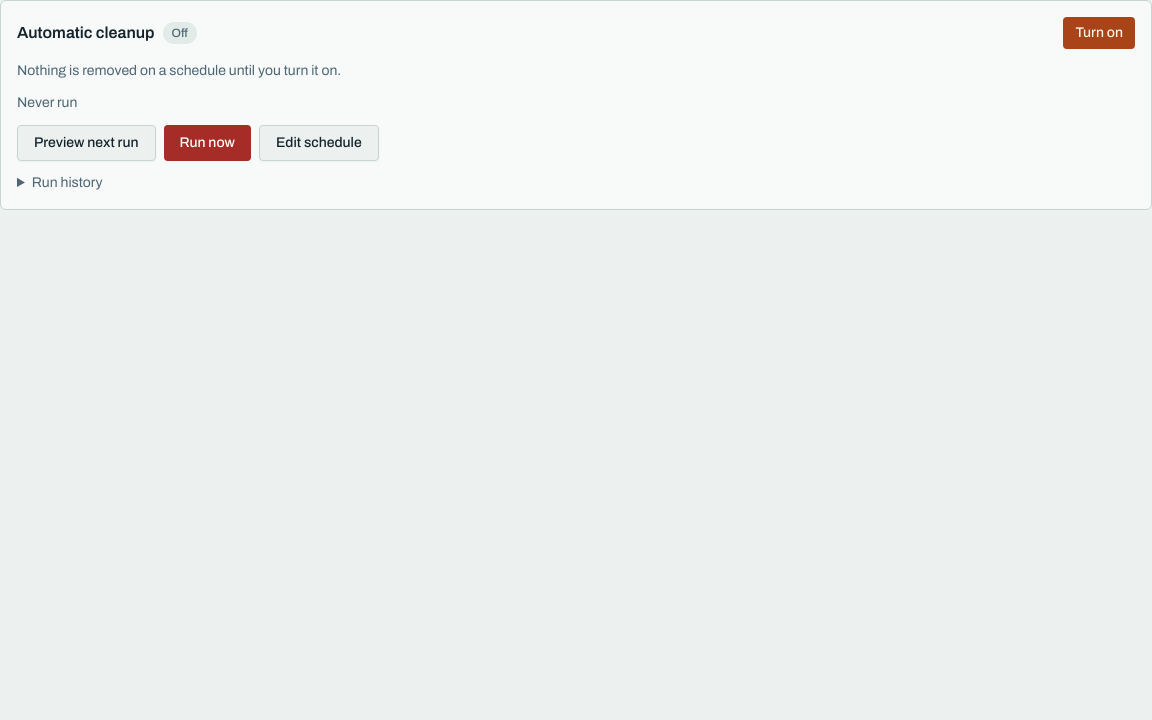
Scenario: AutoCleanupPanel: status copy (AC8) › Off shows "Off" and a "Turn on" that opens Edit schedule with the switch on
This screenshot has width=1152, height=720.
expect the text "Off" is shown: met, box top-left (163, 22), bottom-right (197, 44)
Step 1. Click the button "Turn on" → (1099, 33), box top-left (1064, 17), bottom-right (1135, 49)
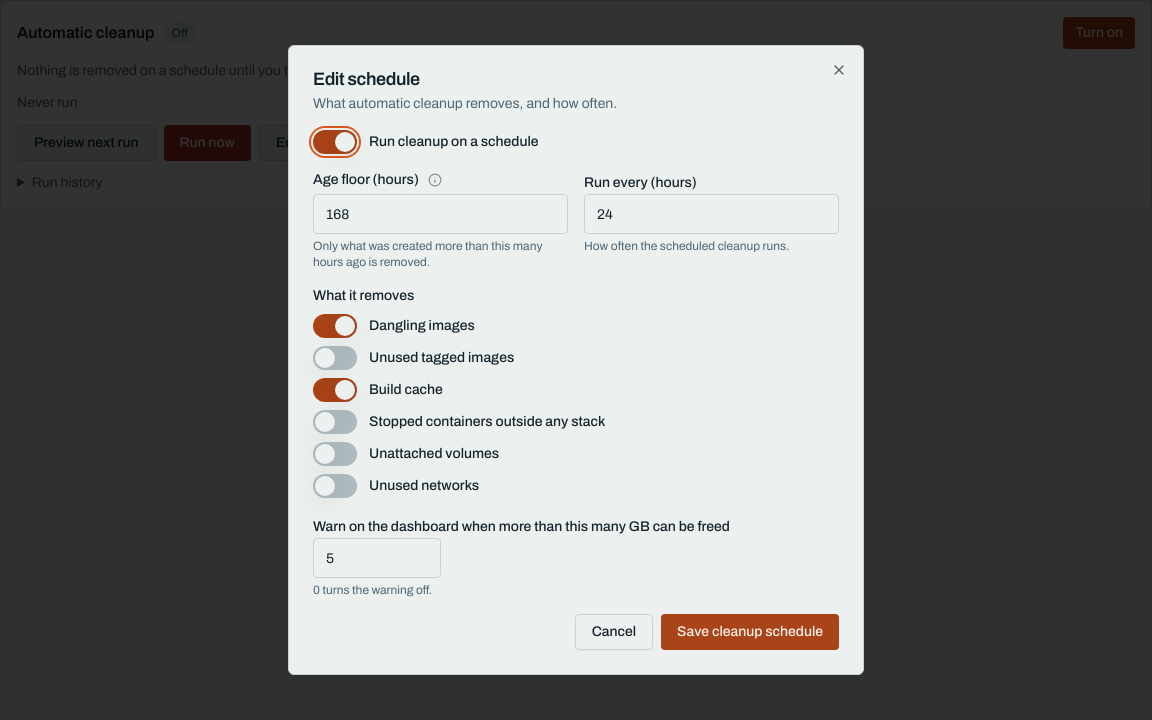
expect the switch named "Run cleanup on a schedule" next to "Run cleanup on a schedule" is checked: met, box top-left (313, 130), bottom-right (357, 154)
